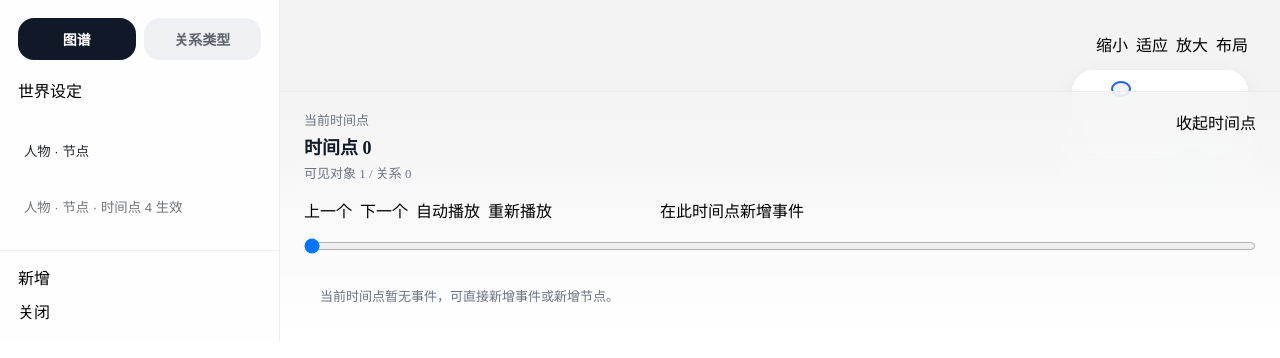
Test case: RobotWorldGraphDialog › updates the current timepoint when the range slider changes
The width and height of the screenshot is (1280, 358).
Set the slider with class "timeline-range" to "2" at (780, 246), box x1=304 y1=238 x2=1256 y2=254
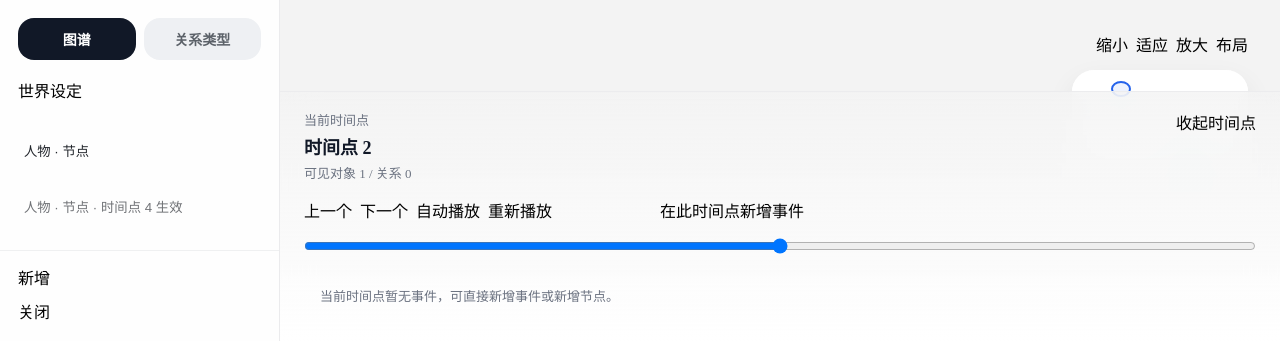
Now the text "时间点 2" is shown, box x1=304 y1=138 x2=372 y2=158
